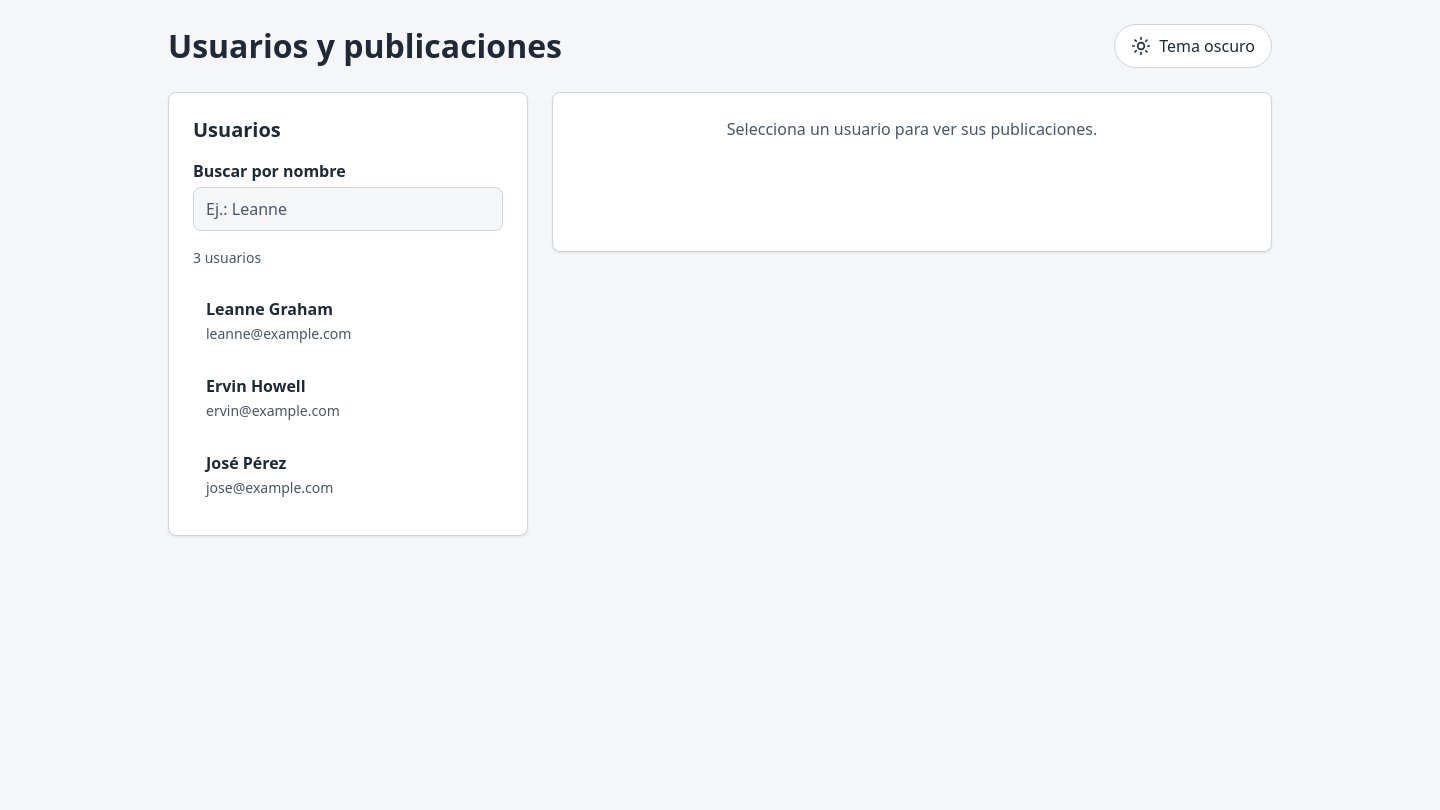
it: Publicaciones › muestra las publicaciones del usuario seleccionado
Click the button "Leanne Graham leanne@example.com": (269, 309) [193,284,503,357]
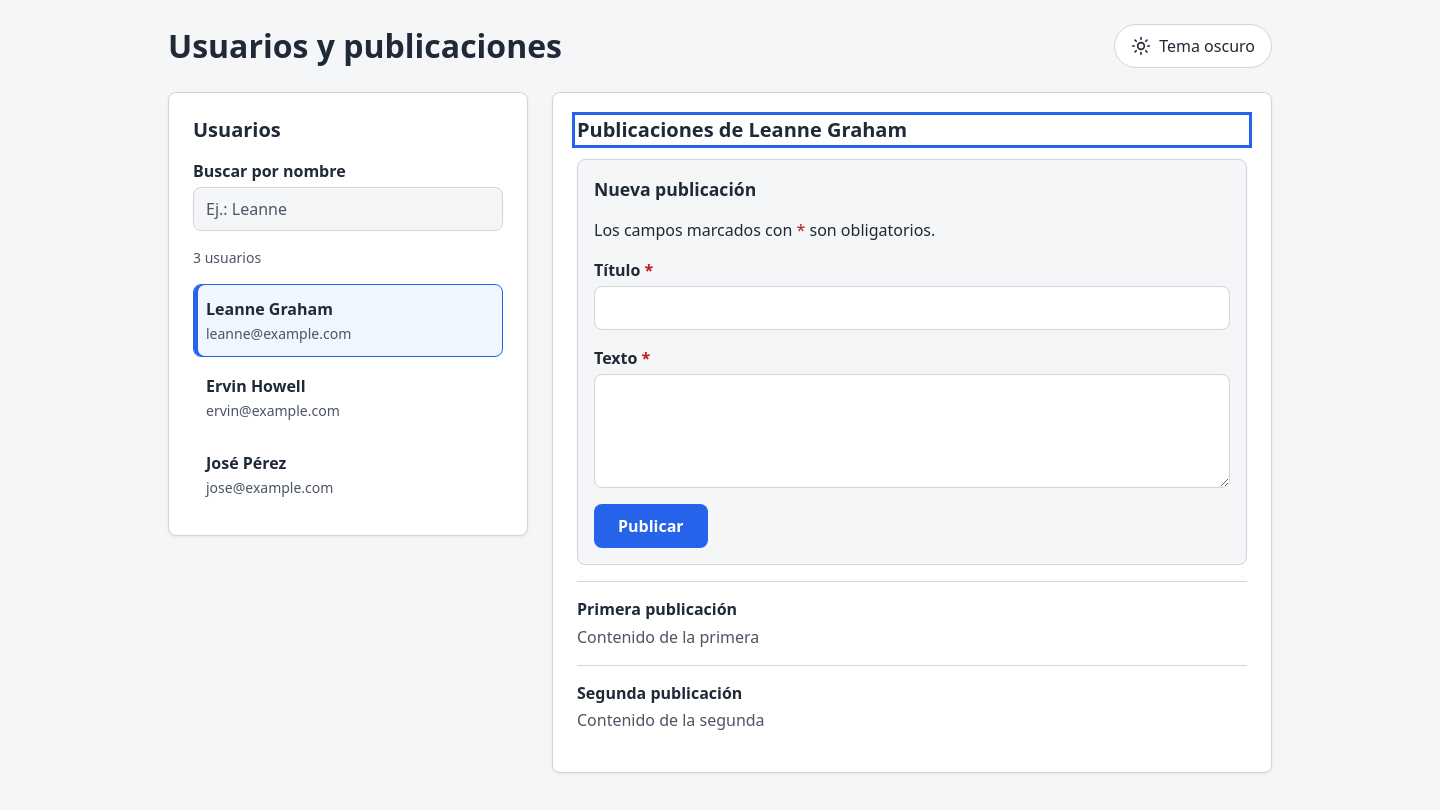
expect the form "Nueva publicación" is shown: met, box [577,159,1247,565]
